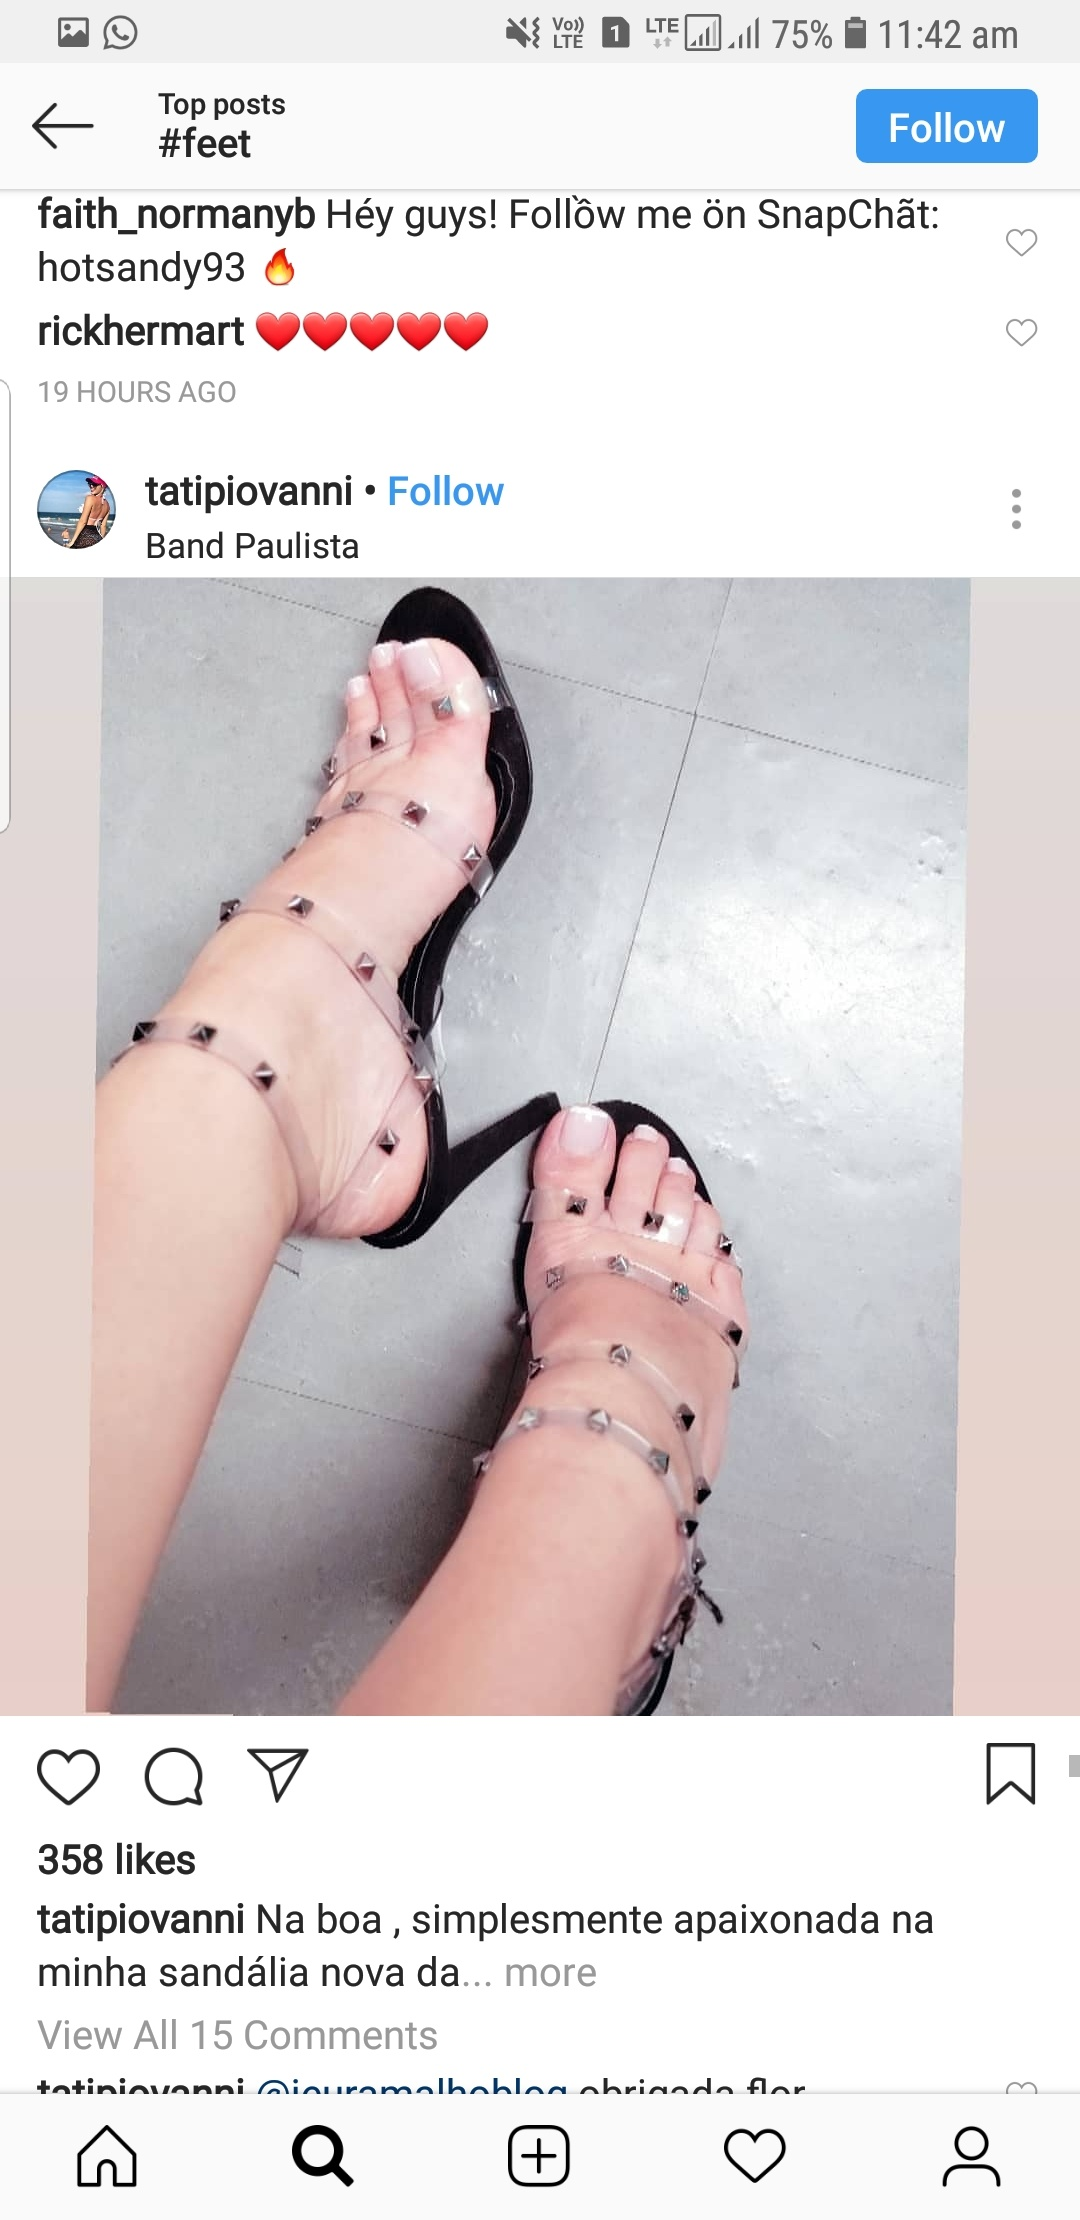feet: (167, 607, 527, 1245), (473, 1089, 786, 1647)
